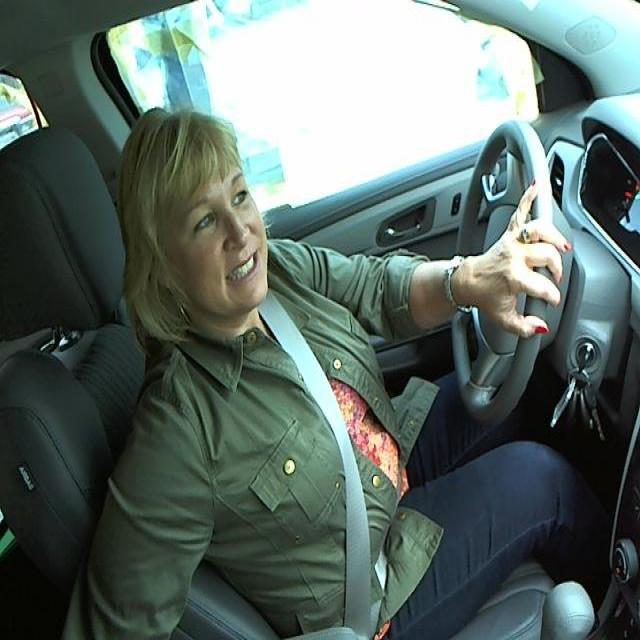seatbelt: (265, 304, 394, 539)
